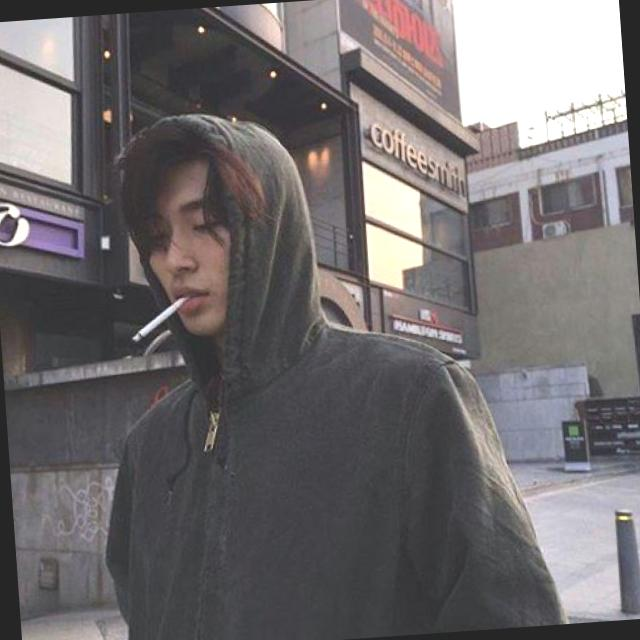cigarette: (113, 288, 214, 350)
